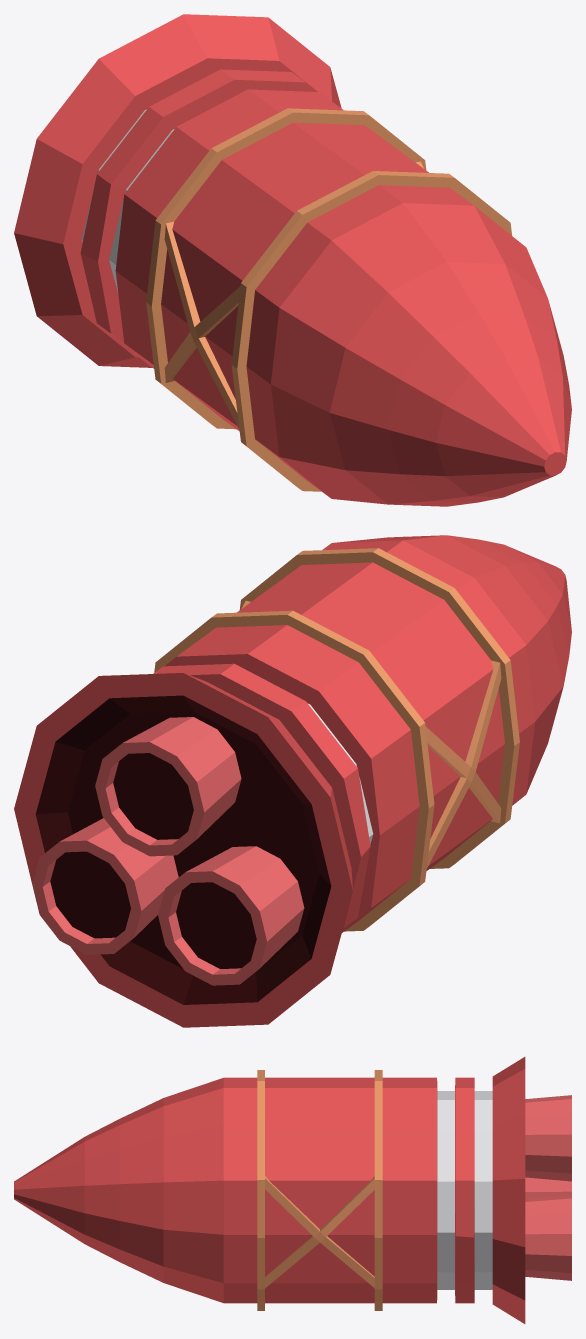
The model's file is Missile.fbx.
The picture shows the model from 3 angles, top to bottom: view 1: azimuth 30°, elevation 25°; view 2: azimuth 150°, elevation 25°; view 3: azimuth 270°, elevation 25°; orthographic projection. The views are drawn at different scales.
Parts seen in each view (by area): view 1: Mesh; view 2: Mesh; view 3: Mesh.
Part boxes in pixels (x1,y1,x2,y2): Mesh: [14, 14, 571, 506]; Mesh: [14, 535, 571, 1027]; Mesh: [14, 1057, 571, 1323].
Bounding box in the file's own units: 0.6885 × 0.6885 × 1.43.
